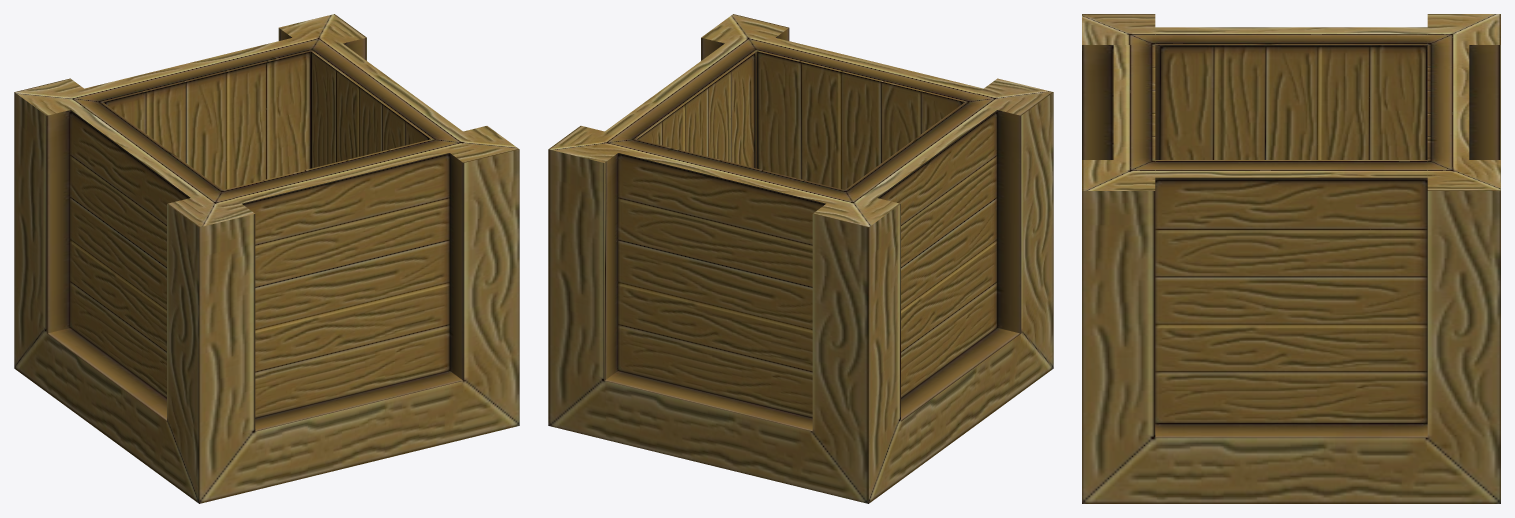
The model's file is crate_base.fbx.
3 renders of one model, left to right at view 1: azimuth 30°, elevation 25°; view 2: azimuth 150°, elevation 25°; view 3: azimuth 270°, elevation 25°, orthographic. The views are drawn at different scales.
Visible parts, largest first — view 1: polySurface1; view 2: polySurface1; view 3: polySurface1.
Part boxes in pixels (<box>): polySurface1: <box>14,14,519,503</box>; polySurface1: <box>548,14,1053,503</box>; polySurface1: <box>1082,14,1500,503</box>.
Bounding box in the file's own units: 2 × 1.65 × 2.
